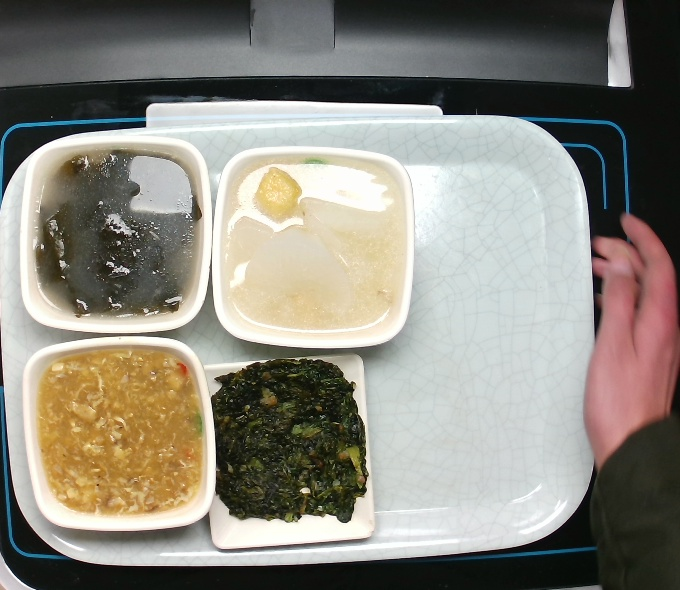wcq-HaiDaiPaiGuTang: (55, 153, 193, 307)
wcq-LuoBoYouPaoTang: (232, 161, 390, 325)
wcq-QinCaiBing: (217, 360, 360, 516)
wcq-SuanLaGeng: (53, 361, 191, 508)
